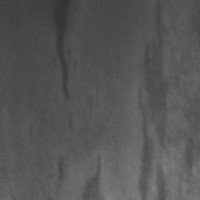inclusion: (136, 1, 197, 199), (49, 1, 77, 103), (79, 150, 108, 199), (46, 152, 69, 199)
